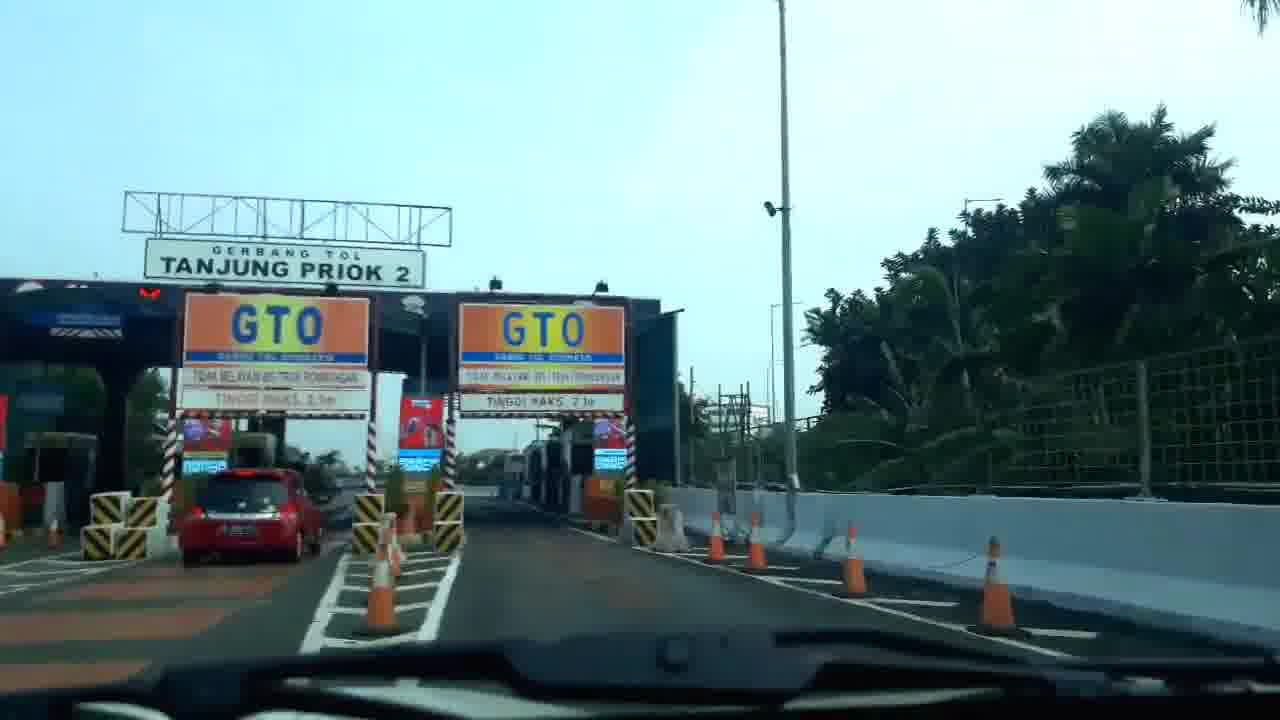plate_positive: (221, 524, 258, 538)
